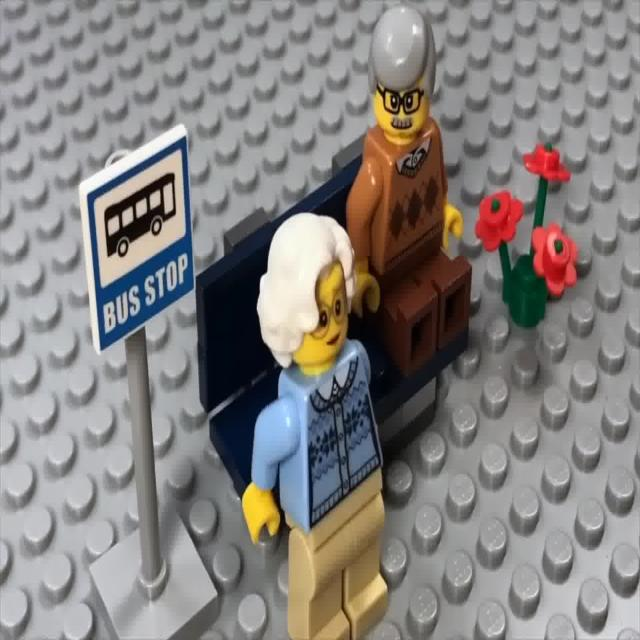4: (331, 1, 490, 395), (235, 390, 306, 556), (342, 153, 389, 313), (437, 195, 464, 251)
figure: (196, 175, 361, 437)
hand: (268, 203, 393, 631)
